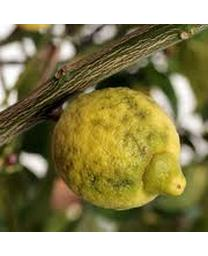lemon: (52, 86, 187, 212)
